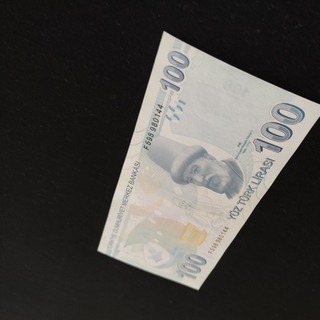100TLBack: (96, 29, 320, 291)
